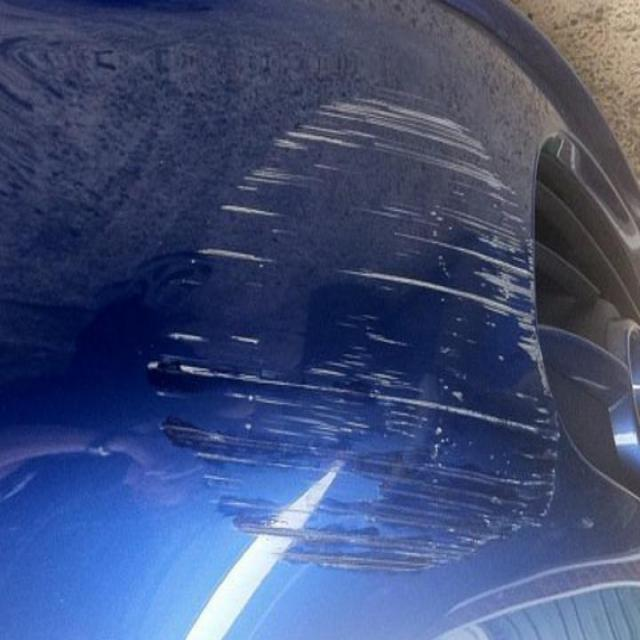scratch: (133, 96, 566, 570)
